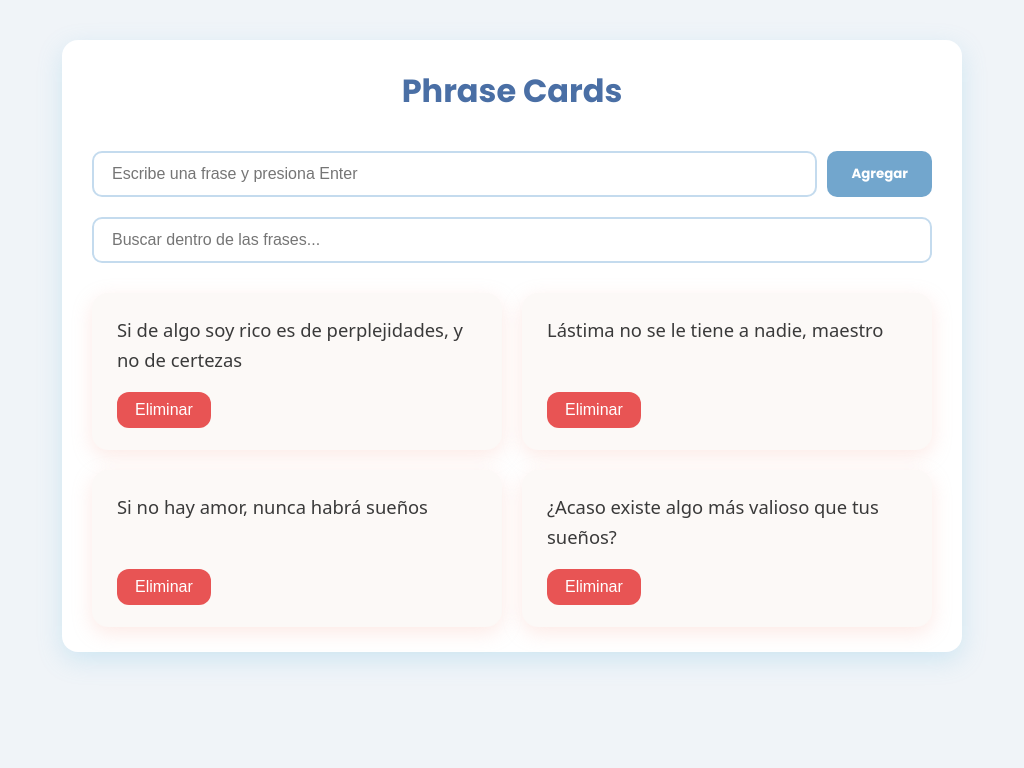
Test case: App integration › agrega una frase y la muestra
The image size is (1024, 768).
Step 1. Type "Frase para test" into the field named "new-phrase" → coordinates (455, 174), box top-left (92, 151), bottom-right (817, 197)
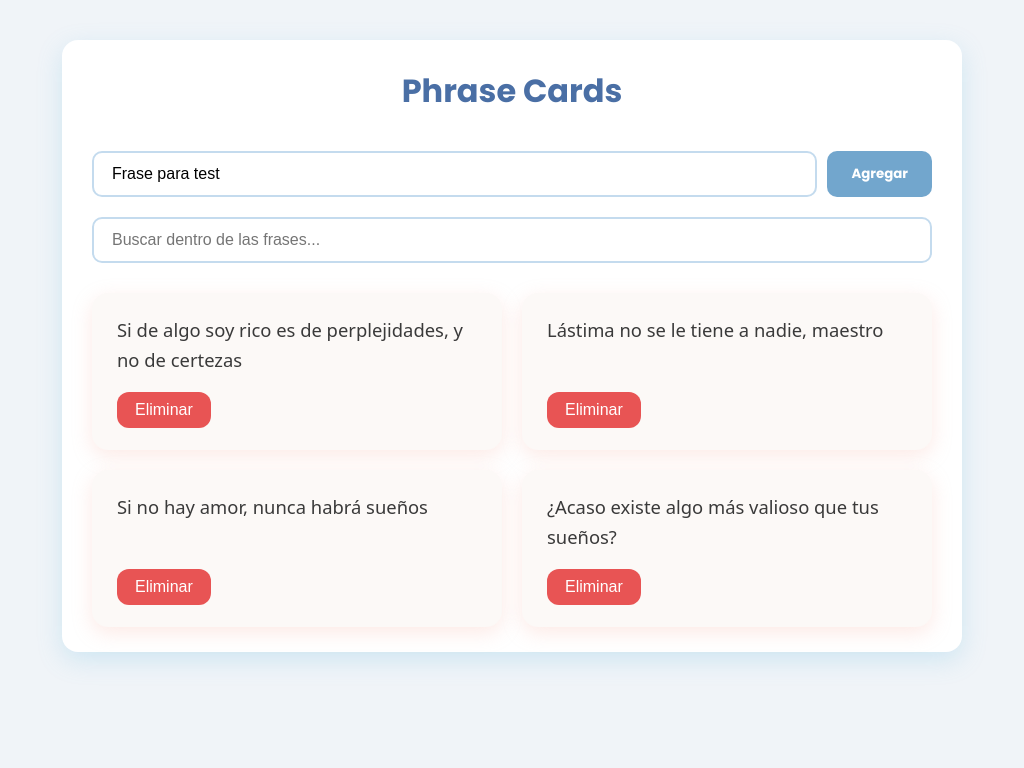
Step 2. Submit the form from the field named "new-phrase", box top-left (92, 151), bottom-right (817, 197)
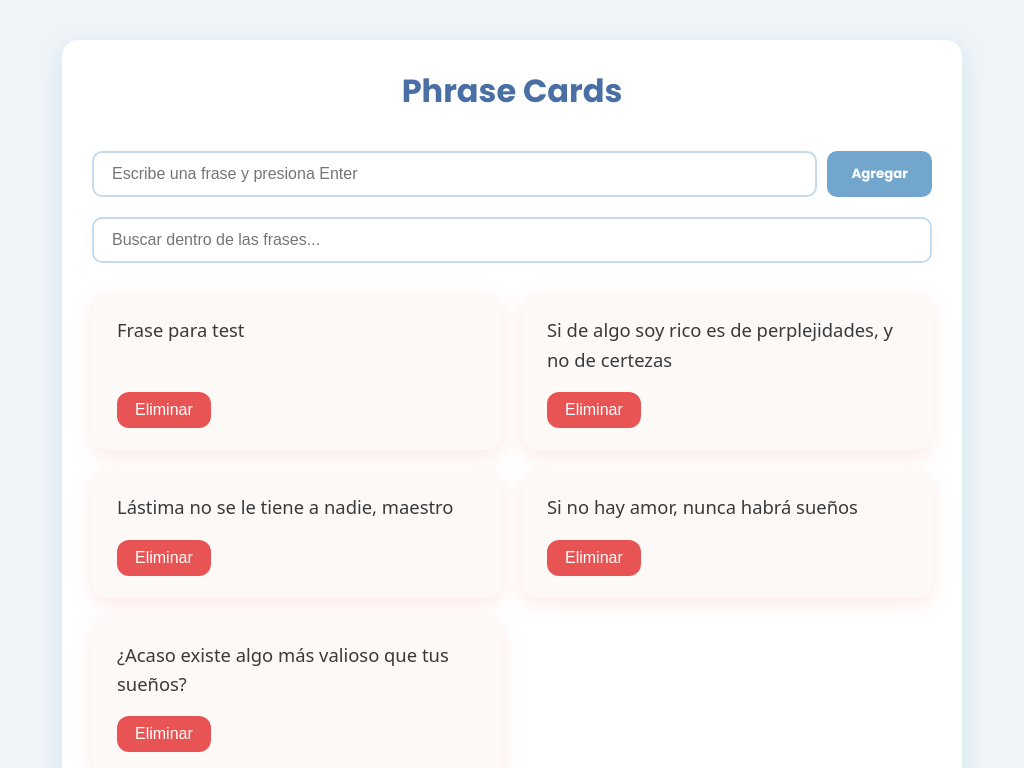
Check: the text "Frase para test" is shown, box top-left (117, 317), bottom-right (244, 342)
